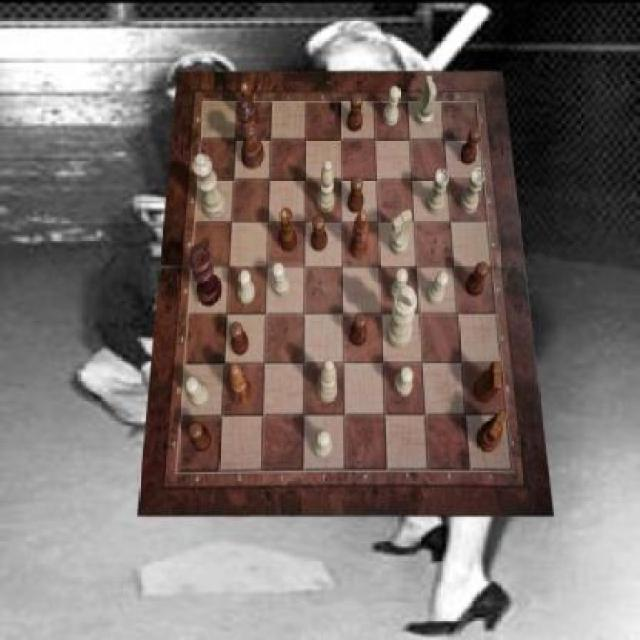bishop: (349, 209, 369, 260), (231, 363, 254, 405)
black-bishop: (191, 243, 223, 307)
black-king: (477, 410, 508, 454), (474, 361, 501, 404)
black-knight: (460, 126, 481, 165), (466, 262, 489, 296), (190, 422, 212, 452), (310, 216, 328, 252), (230, 322, 248, 356), (351, 312, 368, 347), (348, 177, 364, 213), (348, 94, 363, 132)
black-pawn: (237, 97, 265, 171)
black-queen: (240, 82, 260, 129), (278, 208, 298, 253)
black-rook: (316, 160, 334, 214), (317, 358, 338, 401)
white-bishop: (386, 284, 417, 348)
white-king: (415, 77, 438, 129), (390, 210, 412, 256)
white-knight: (426, 271, 449, 305), (186, 377, 209, 409), (383, 86, 401, 126), (238, 269, 256, 304), (272, 263, 290, 298), (391, 269, 408, 304), (394, 366, 413, 397), (313, 431, 332, 458)
white-pawn: (192, 152, 228, 218)
white-queen: (460, 168, 485, 214), (426, 170, 449, 216)
